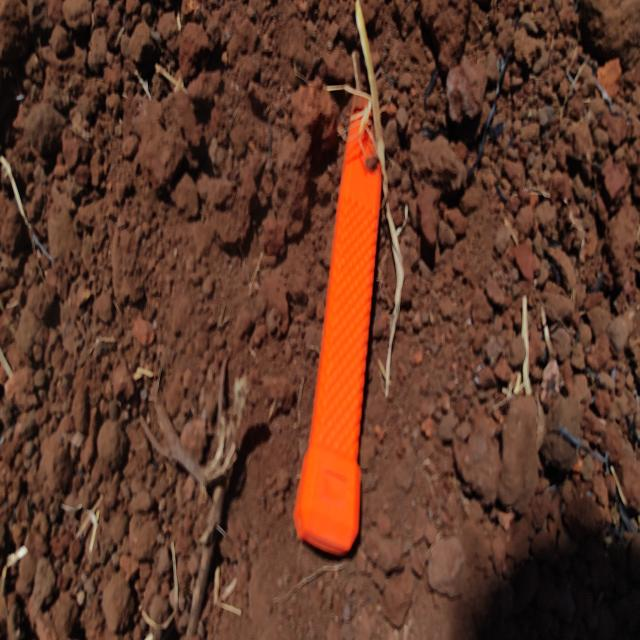Orange_hammer: (292, 70, 380, 571)
